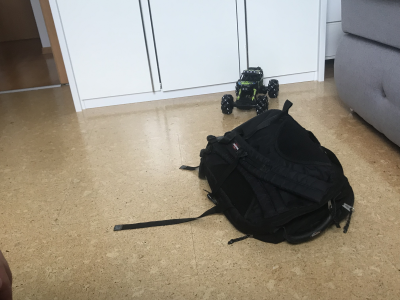remote control car: (219, 64, 280, 116)
